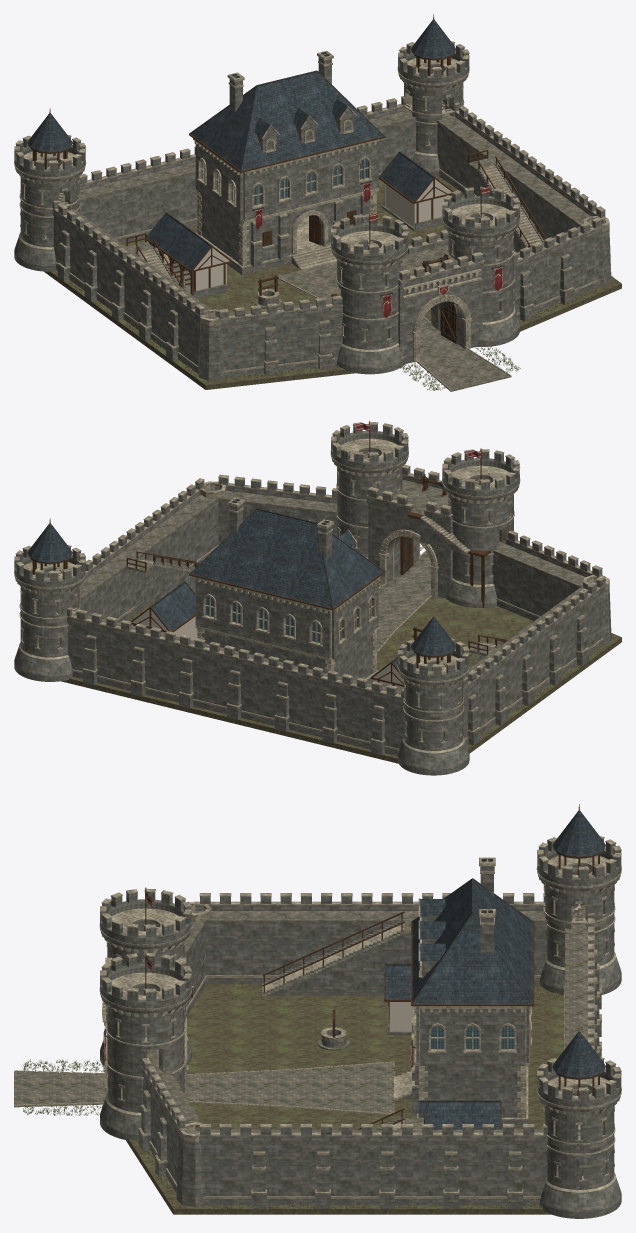
Rendered from Highmere.fbx.
The picture shows the model from 3 angles, top to bottom: view 1: azimuth 30°, elevation 25°; view 2: azimuth 150°, elevation 25°; view 3: azimuth 270°, elevation 25°; orthographic projection. The views are drawn at different scales.
Parts seen in each view (by area): view 1: Keep • quoins roof and chimneys, West • long curtain, North • rear curtain, West • gate tower, East • long curtain, West • southern return, Ward • graded earth and foundation, East • gate tower, Gatehouse • vaulted throat and guard terrace, West • rear watchtower, Keep • foundation and lower hall, Keep • South gallery bays (+14 smaller); view 2: North • rear curtain, Keep • quoins roof and chimneys, West • long curtain, West • rear watchtower, East • long curtain, Ward • graded earth and foundation, West • gate tower, East • rear watchtower, Keep • North gallery bays, Gatehouse • vaulted throat and guard terrace, East • gate tower, West • southern return (+8 smaller); view 3: East • long curtain, Ward • graded earth and foundation, Keep • quoins roof and chimneys, West • long curtain, East • rear watchtower, East • gate tower, Ward • gate road and keep apron, West • rear watchtower, Keep • East gallery bays, West stair, West • gate tower, Keep • foundation and lower hall (+9 smaller).
Boxes of the visible parts, x1=… form: Keep • quoins roof and chimneys: x1=189, y1=50, x2=385, y2=266; West • long curtain: x1=46, y1=200, x2=211, y2=373; North • rear curtain: x1=61, y1=96, x2=416, y2=243; West • gate tower: x1=330, y1=214, x2=408, y2=374; East • long curtain: x1=429, y1=98, x2=606, y2=239; West • southern return: x1=210, y1=295, x2=365, y2=378; Ward • graded earth and foundation: x1=44, y1=176, x2=621, y2=389; East • gate tower: x1=442, y1=187, x2=520, y2=346; Gatehouse • vaulted throat and guard terrace: x1=397, y1=229, x2=484, y2=363; West • rear watchtower: x1=14, y1=108, x2=86, y2=271; Keep • foundation and lower hall: x1=196, y1=188, x2=378, y2=275; Keep • South gallery bays: x1=243, y1=139, x2=379, y2=220; North • rear curtain: x1=66, y1=607, x2=403, y2=755; Keep • quoins roof and chimneys: x1=189, y1=497, x2=385, y2=673; West • long curtain: x1=463, y1=576, x2=606, y2=745; West • rear watchtower: x1=397, y1=611, x2=469, y2=775; East • long curtain: x1=79, y1=478, x2=219, y2=622; Ward • graded earth and foundation: x1=61, y1=582, x2=621, y2=763; West • gate tower: x1=442, y1=449, x2=520, y2=607; East • rear watchtower: x1=14, y1=518, x2=86, y2=681; Keep • North gallery bays: x1=194, y1=577, x2=330, y2=658; Gatehouse • vaulted throat and guard terrace: x1=366, y1=464, x2=453, y2=598; East • gate tower: x1=330, y1=422, x2=408, y2=574; West • southern return: x1=492, y1=528, x2=604, y2=620; East • long curtain: x1=195, y1=1124, x2=579, y2=1208; Ward • graded earth and foundation: x1=126, y1=984, x2=564, y2=1214; Keep • quoins roof and chimneys: x1=411, y1=857, x2=534, y2=1117; West • long curtain: x1=195, y1=893, x2=576, y2=984; East • rear watchtower: x1=536, y1=1025, x2=621, y2=1218; East • gate tower: x1=99, y1=953, x2=192, y2=1140; Ward • gate road and keep apron: x1=14, y1=1061, x2=394, y2=1115; West • rear watchtower: x1=536, y1=804, x2=621, y2=994; Keep • East gallery bays: x1=419, y1=1006, x2=526, y2=1065; West stair: x1=262, y1=911, x2=404, y2=995; West • gate tower: x1=99, y1=888, x2=192, y2=1065; Keep • foundation and lower hall: x1=411, y1=1018, x2=529, y2=1128.
Bounding box in the file's own units: 53.04 × 20.1 × 53.02.
